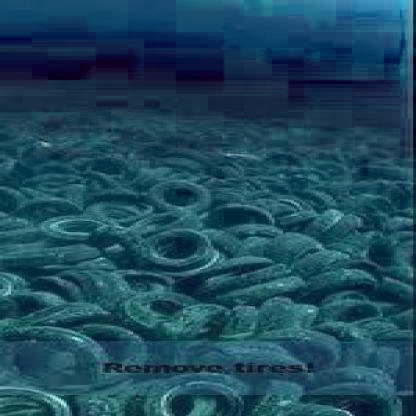tire: (106, 290, 242, 337), (119, 175, 244, 222), (42, 208, 147, 250), (144, 232, 233, 279), (164, 373, 255, 416)
